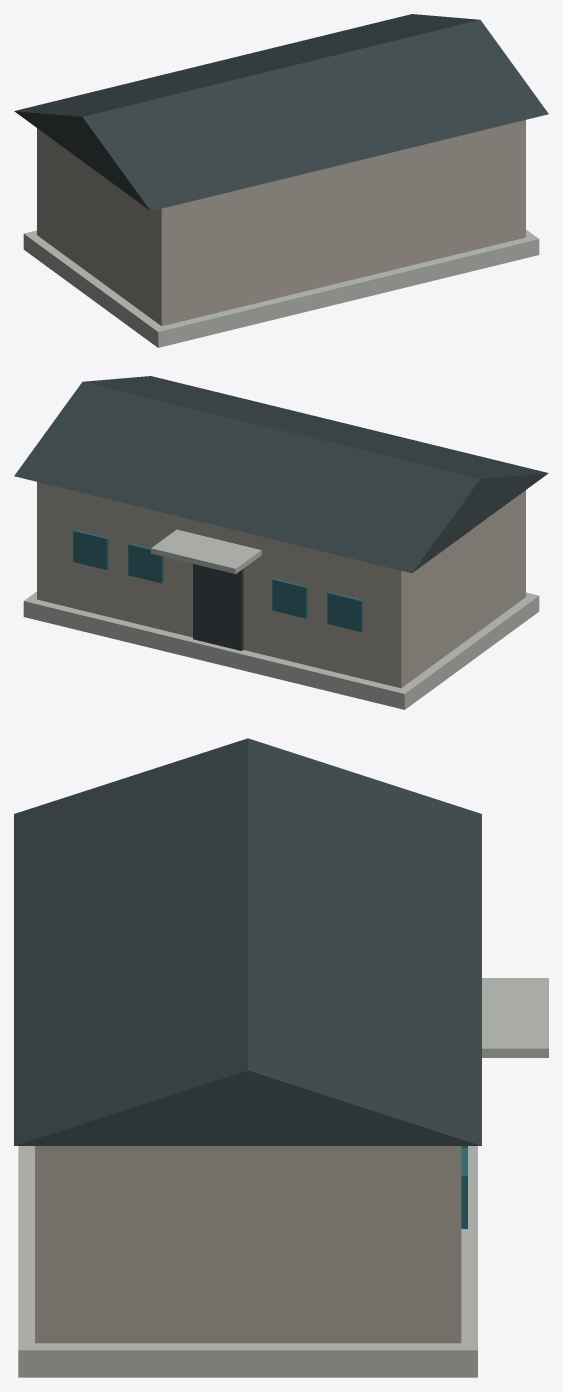
The model's file is MIL_Barracks.fbx.
3 views of the same model, one above another, from view 1: azimuth 30°, elevation 25°; view 2: azimuth 150°, elevation 25°; view 3: azimuth 270°, elevation 25° (orthographic). The views are drawn at different scales.
Parts seen in each view (by area): view 1: Walls.004, MIL_Barracks_Gunmetal, MIL_Barracks_ENV_Concrete; view 2: MIL_Barracks_Gunmetal, Walls.004, MIL_Barracks_ENV_Concrete, MIL_Barracks_Radar Glass; view 3: MIL_Barracks_Gunmetal, Walls.004, MIL_Barracks_ENV_Concrete.
Boxes of the visible parts, box(x1,y1,x2,y2) form: Walls.004: box(37, 120, 525, 326); MIL_Barracks_Gunmetal: box(14, 14, 548, 211); MIL_Barracks_ENV_Concrete: box(23, 229, 539, 347); MIL_Barracks_Gunmetal: box(14, 376, 548, 650); Walls.004: box(37, 482, 525, 688); MIL_Barracks_ENV_Concrete: box(23, 529, 539, 709); MIL_Barracks_Radar Glass: box(73, 529, 362, 631); MIL_Barracks_Gunmetal: box(14, 738, 481, 1145); Walls.004: box(35, 1146, 461, 1343); MIL_Barracks_ENV_Concrete: box(18, 978, 548, 1377).
Bounding box in the file's own units: 940 × 415 × 640.
